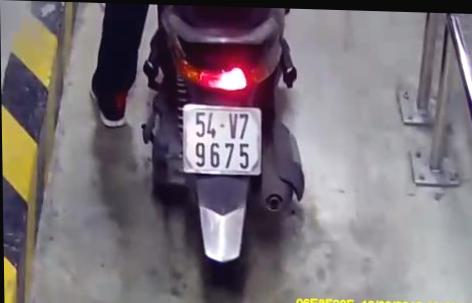License_Plate: (173, 100, 271, 186)
